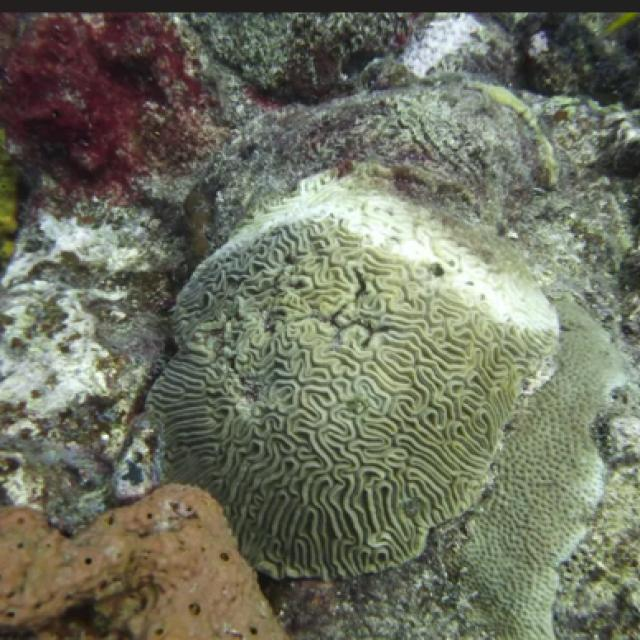Coral: (130, 159, 628, 639)
